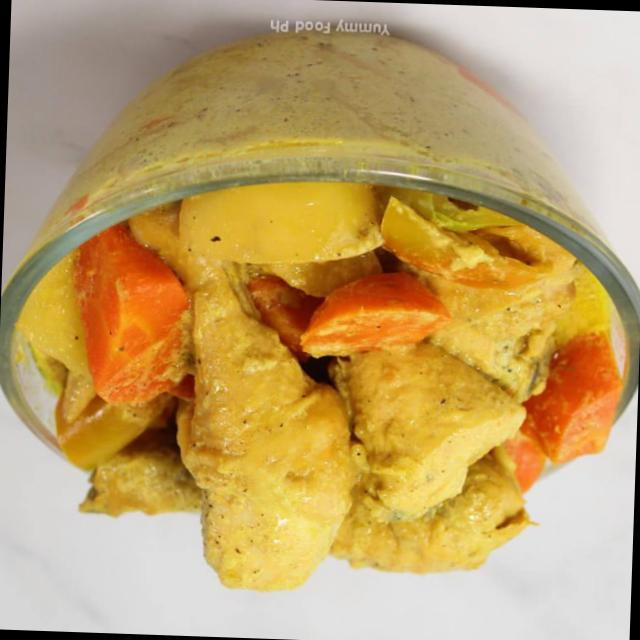chicken: (22, 136, 610, 596)
